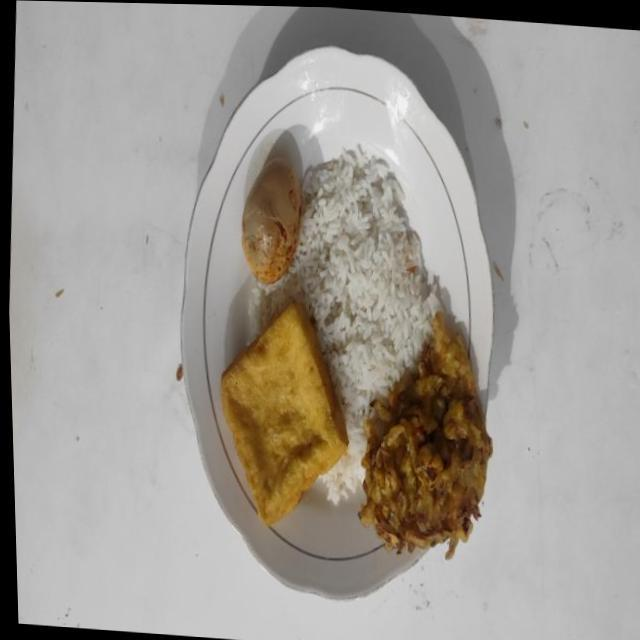nasi_putih: (251, 146, 441, 504)
tahu_goreng: (221, 303, 348, 526)
